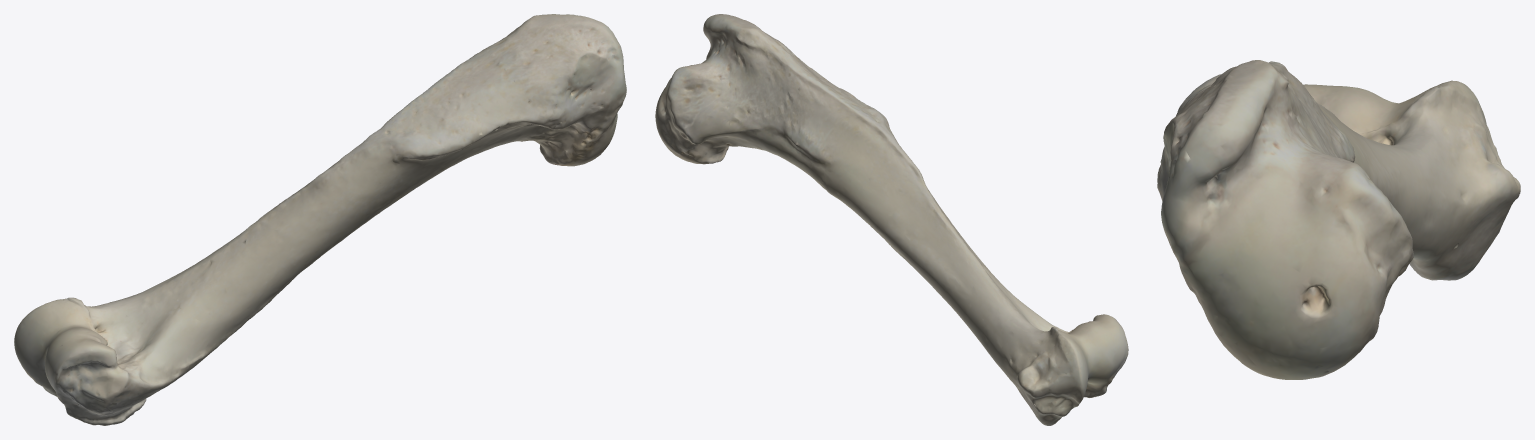
3 views of the same model, side by side, from view 1: azimuth 30°, elevation 25°; view 2: azimuth 150°, elevation 25°; view 3: azimuth 270°, elevation 25° (orthographic). The views are drawn at different scales.
Parts seen in each view (by area): view 1: Humerus_li_Hund.001; view 2: Humerus_li_Hund.001; view 3: Humerus_li_Hund.001.
Part boxes in pixels (<box>): Humerus_li_Hund.001: <box>14,14,626,425</box>; Humerus_li_Hund.001: <box>655,14,1128,425</box>; Humerus_li_Hund.001: <box>1157,60,1520,379</box>.
Size of the model in its own units: 15181 by 8654 by 5121.
1 material, 1 textured.
